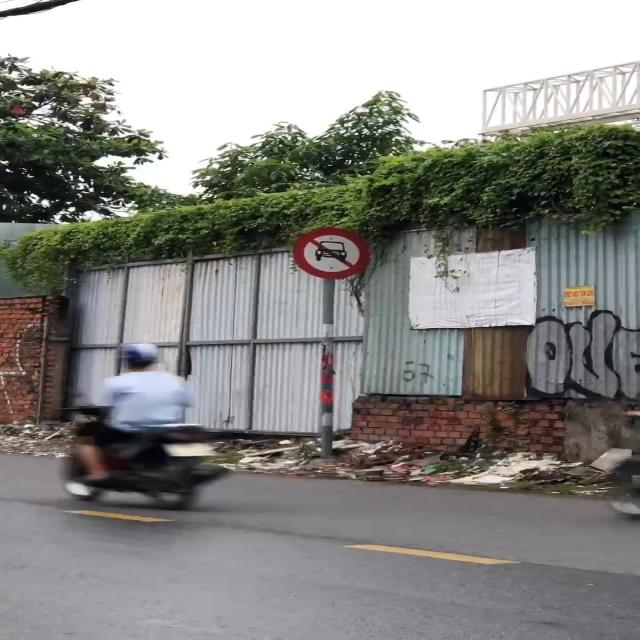Bien bao cam xe oto: (292, 226, 378, 281)
